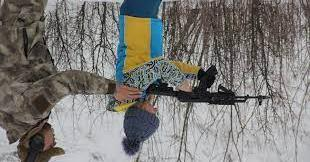larga: (145, 65, 270, 106)
